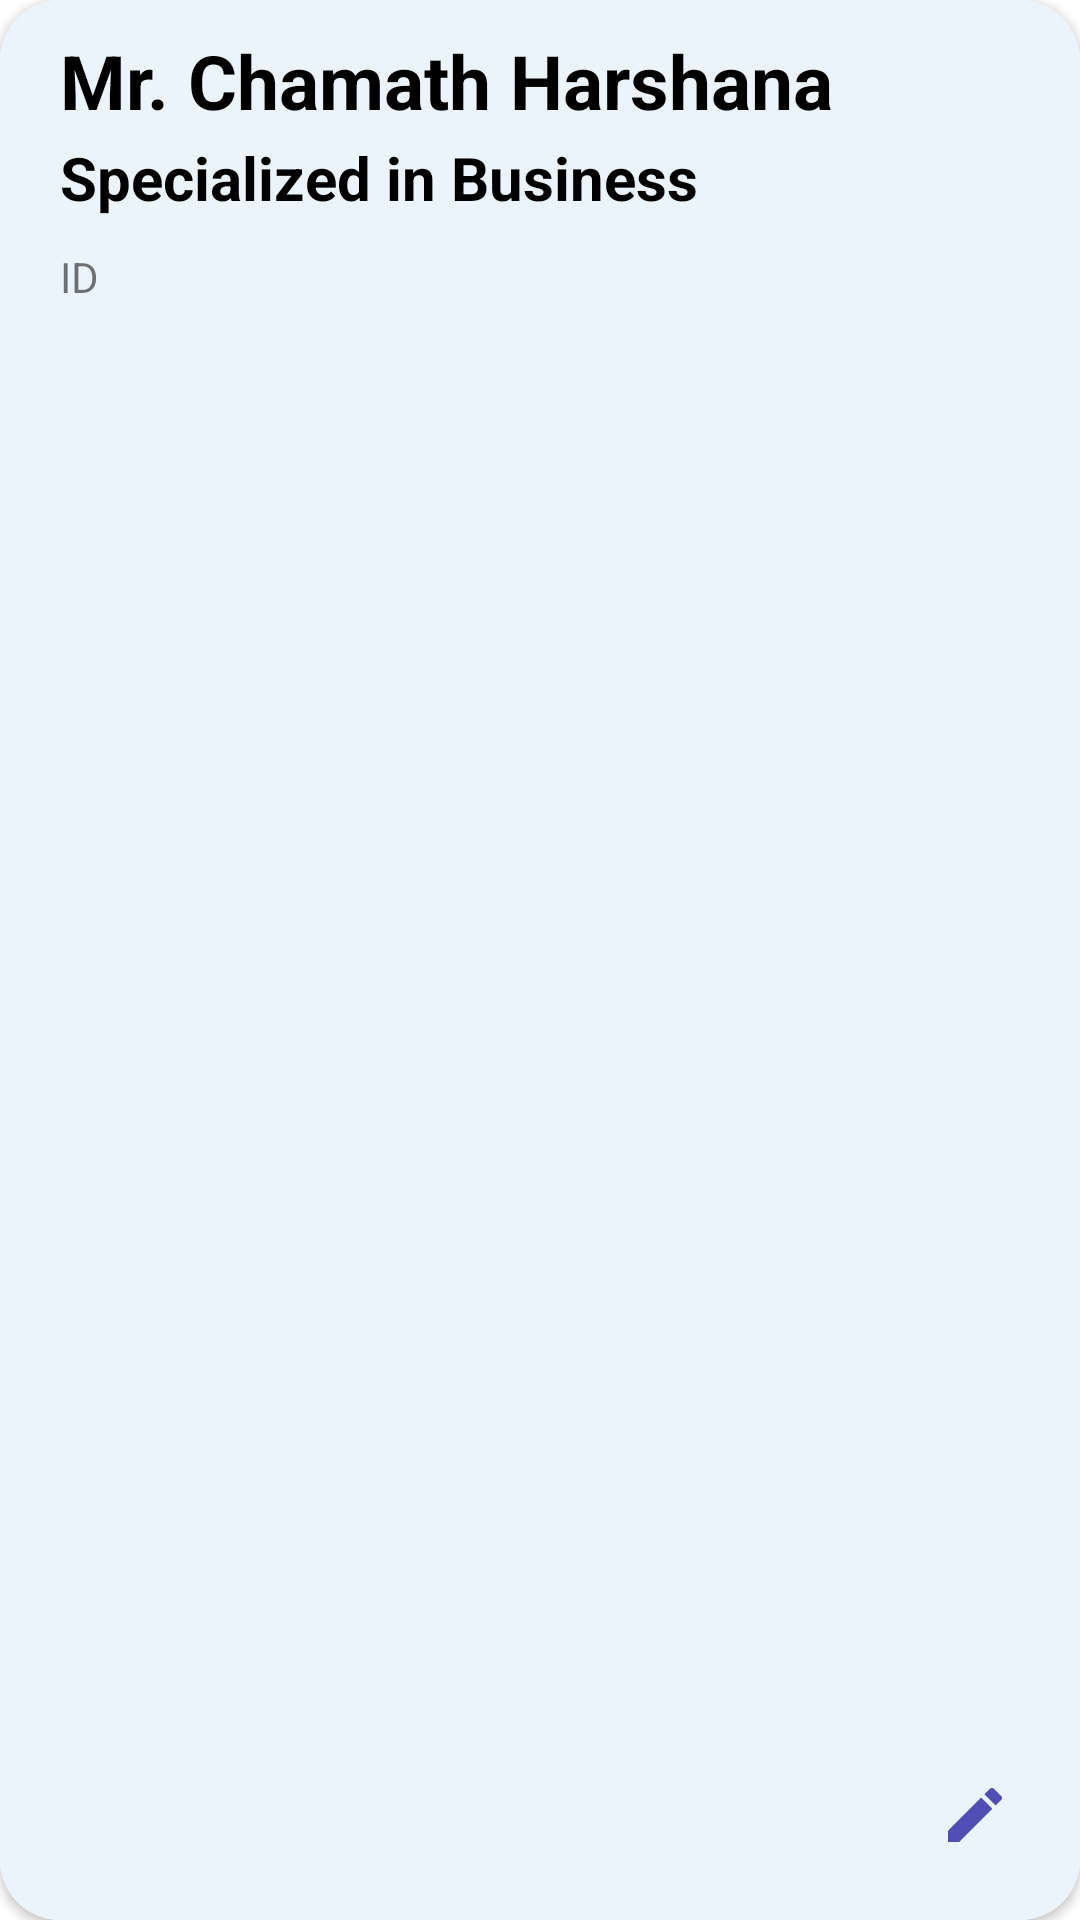

Screen size 1080px×1920px. Icon name, then its box in pixels as region(x1, y1, x2, y2):
mode edit: region(948, 1788, 1002, 1842)
